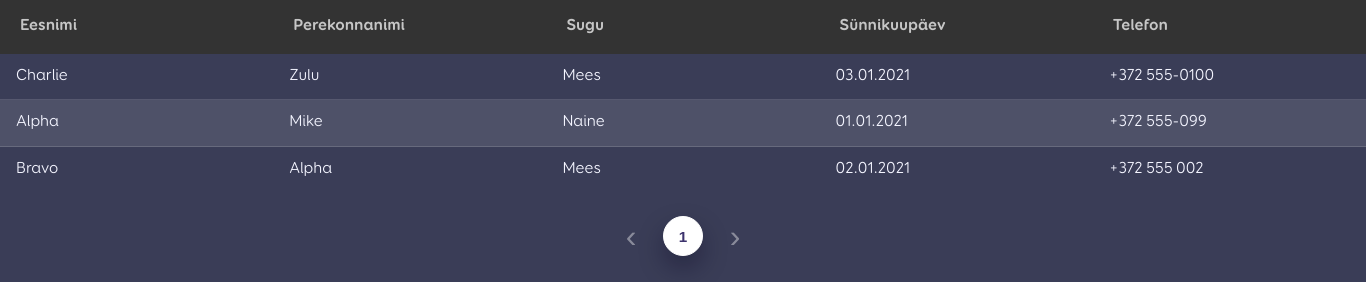
Test: CustomTable › formats birth dates and sorts phone numbers numerically
Expected: the text "Charlie" is shown, [0, 54, 273, 100]
Expected: the text "03.01.2021" is shown, [820, 54, 1093, 100]
Click the button "Telefon": click(1229, 27) [1113, 14, 1346, 40]
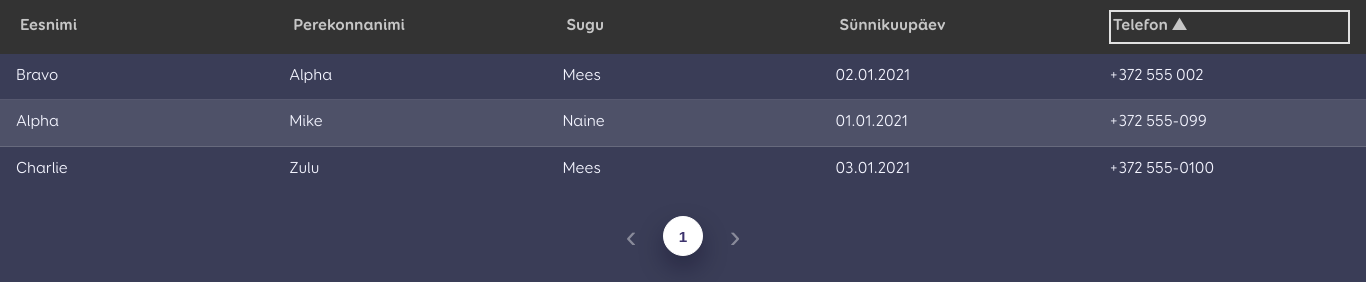
Result: the text "Bravo" is shown at [0, 54, 273, 100]
Result: the text "+372 555 002" is shown at [1093, 54, 1365, 100]
